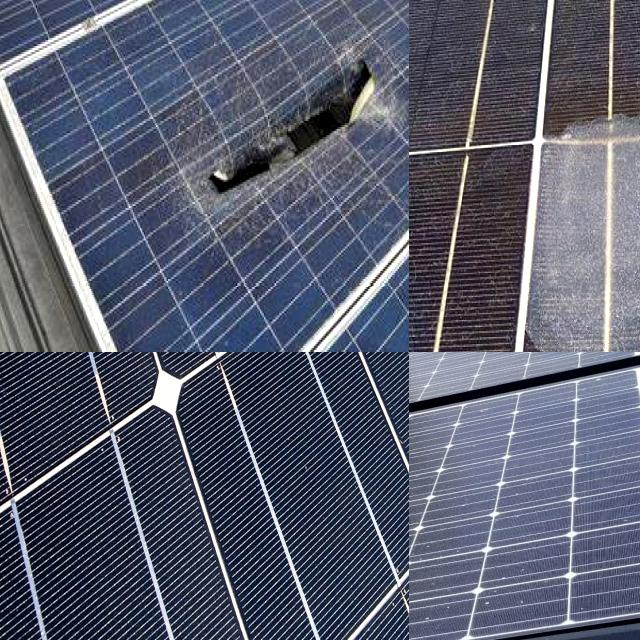crack: (135, 352, 409, 640), (82, 352, 330, 520), (239, 352, 409, 491)
hotspot: (155, 53, 409, 200)
shadow: (525, 95, 640, 352)
